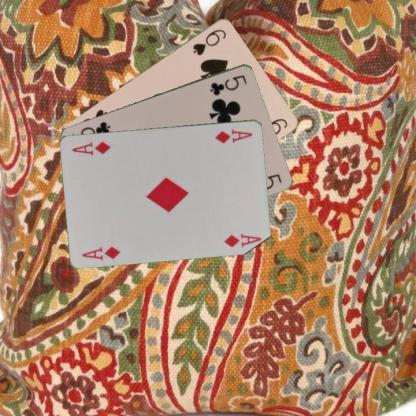5c: (206, 72, 249, 98)
6s: (190, 26, 228, 57)
Ad: (212, 126, 254, 144), (80, 244, 122, 262)
